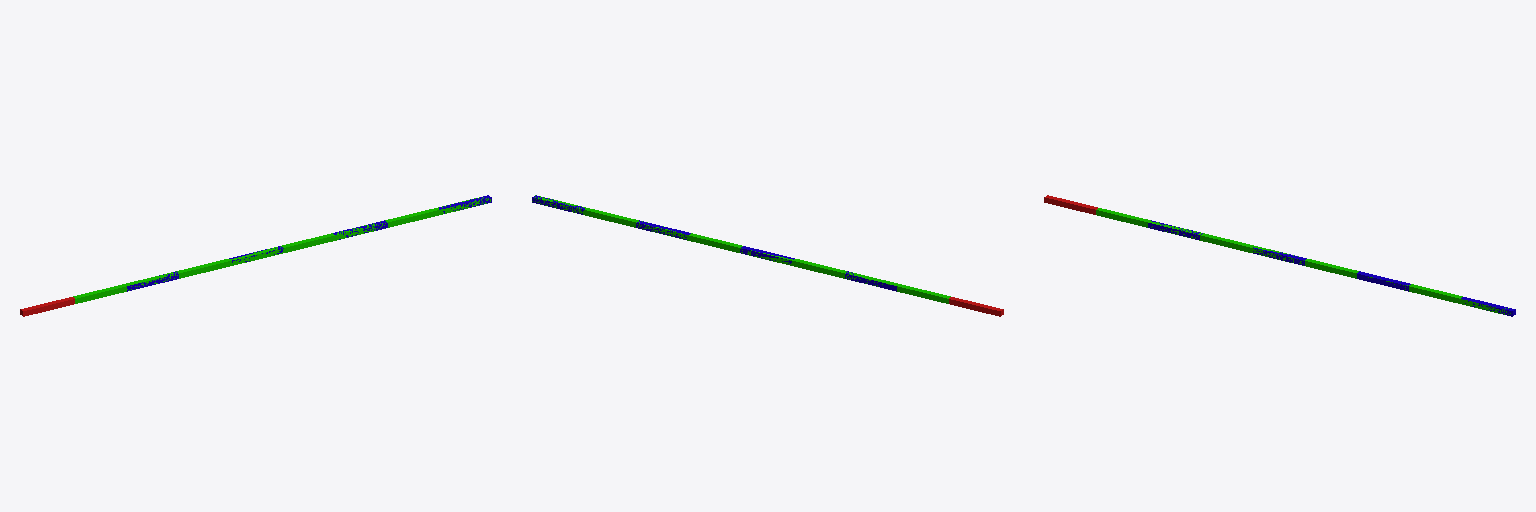
URDF robot description (variable_four_bar_branch):
<?xml version="1.0" ?>
<!-- =================================================================================== -->
<!-- |    This document was autogenerated by xacro from four_bar_branch.xacro          | -->
<!-- |    EDITING THIS FILE BY HAND IS NOT RECOMMENDED                                 | -->
<!-- =================================================================================== -->
<robot name="variable_four_bar_branch">
  <link name="base"/>
  <link name="link_4">
    <inertial>
      <mass value="3.3"/>
      <origin xyz="0.0 0.0 0.0"/>
      <inertia ixx="0.011253" ixy="0" ixz="0" iyy="0.036203" iyz="0" izz="0.042673"/>
    </inertial>
    <visual>
      <origin rpy="0 0 0" xyz="0.25 0 0"/>
      <geometry>
        <box size="0.5 0.05 0.05"/>
      </geometry>
      <material name="Blue">
        <color rgba="0.1 0 0.8 1.0"/>
      </material>
    </visual>
  </link>
  <link name="link_5">
    <inertial>
      <mass value="3.3"/>
      <origin xyz="0.0 0.0 0.0"/>
      <inertia ixx="0.011253" ixy="0" ixz="0" iyy="0.036203" iyz="0" izz="0.042673"/>
    </inertial>
    <visual>
      <origin rpy="0 0 0" xyz="0.25 0 0"/>
      <geometry>
        <box size="0.5 0.05 0.05"/>
      </geometry>
      <material name="Red">
        <color rgba="0.8 0.1 0.1 1.0"/>
      </material>
    </visual>
  </link>
  <link name="link_6">
    <inertial>
      <mass value="3.3"/>
      <origin xyz="0.0 0.0 0.0"/>
      <inertia ixx="0.011253" ixy="0" ixz="0" iyy="0.036203" iyz="0" izz="0.042673"/>
    </inertial>
    <visual>
      <origin rpy="0 0 0" xyz="0.5 0 0"/>
      <geometry>
        <box size="1.0 0.05 0.05"/>
      </geometry>
      <material name="Green2">
        <color rgba="0.1 0.8 0 1.0"/>
      </material>
    </visual>
  </link>
  <joint independent="false" name="base_to_link_4" type="revolute">
    <parent link="base"/>
    <child link="link_4"/>
    <origin xyz="1.0 0.0 0.0"/>
    <axis xyz="0 0 1"/>
    <limit effort="30" lower="-10" upper="10" velocity="1.0"/>
  </joint>
  <joint independent="true" name="base_to_link_5" type="revolute">
    <parent link="base"/>
    <child link="link_5"/>
    <origin xyz="0.0 0.0 0.0"/>
    <axis xyz="0 0 1"/>
    <limit effort="30" lower="-10" upper="10" velocity="1.0"/>
  </joint>
  <joint independent="false" name="link_5_to_link_6" type="revolute">
    <parent link="link_5"/>
    <child link="link_6"/>
    <origin xyz="0.5 0.0 0.0"/>
    <axis xyz="0 0 1"/>
    <limit effort="30" lower="-10" upper="10" velocity="1.0"/>
  </joint>
  <constraint name="constraint_4" type="position">
    <predecessor link="link_4">
      <origin xyz="0.5 0.0 0.0"/>
    </predecessor>
    <successor link="link_6">
      <origin xyz="1.0 0.0 0.0"/>
    </successor>
  </constraint>
  <link name="link_1">
    <inertial>
      <mass value="3.3"/>
      <origin xyz="0.0 0.0 0.0"/>
      <inertia ixx="0.011253" ixy="0" ixz="0" iyy="0.036203" iyz="0" izz="0.042673"/>
    </inertial>
    <visual>
      <origin rpy="0 0 0" xyz="0.25 0 0"/>
      <geometry>
        <box size="0.5 0.05 0.05"/>
      </geometry>
      <material name="Blue">
        <color rgba="0.1 0 0.8 1.0"/>
      </material>
    </visual>
  </link>
  <link name="link_2">
    <inertial>
      <mass value="3.3"/>
      <origin xyz="0.0 0.0 0.0"/>
      <inertia ixx="0.011253" ixy="0" ixz="0" iyy="0.036203" iyz="0" izz="0.042673"/>
    </inertial>
    <visual>
      <origin rpy="0 0 0" xyz="0.25 0 0"/>
      <geometry>
        <box size="0.5 0.05 0.05"/>
      </geometry>
      <material name="Red">
        <color rgba="0.8 0.1 0.1 1.0"/>
      </material>
    </visual>
  </link>
  <link name="link_3">
    <inertial>
      <mass value="3.3"/>
      <origin xyz="0.0 0.0 0.0"/>
      <inertia ixx="0.011253" ixy="0" ixz="0" iyy="0.036203" iyz="0" izz="0.042673"/>
    </inertial>
    <visual>
      <origin rpy="0 0 0" xyz="0.5 0 0"/>
      <geometry>
        <box size="1.0 0.05 0.05"/>
      </geometry>
      <material name="Green2">
        <color rgba="0.1 0.8 0 1.0"/>
      </material>
    </visual>
  </link>
  <joint independent="false" name="base_to_link_1" type="revolute">
    <parent link="base"/>
    <child link="link_1"/>
    <origin xyz="1.0 0.0 0.0"/>
    <axis xyz="0 0 1"/>
    <limit effort="30" lower="-10" upper="10" velocity="1.0"/>
  </joint>
  <joint independent="true" name="base_to_link_2" type="revolute">
    <parent link="base"/>
    <child link="link_2"/>
    <origin xyz="0.0 0.0 0.0"/>
    <axis xyz="0 0 1"/>
    <limit effort="30" lower="-10" upper="10" velocity="1.0"/>
  </joint>
  <joint independent="false" name="link_2_to_link_3" type="revolute">
    <parent link="link_2"/>
    <child link="link_3"/>
    <origin xyz="0.5 0.0 0.0"/>
    <axis xyz="0 0 1"/>
    <limit effort="30" lower="-10" upper="10" velocity="1.0"/>
  </joint>
  <constraint name="constraint_1" type="position">
    <predecessor link="link_1">
      <origin xyz="0.5 0.0 0.0"/>
    </predecessor>
    <successor link="link_3">
      <origin xyz="1.0 0.0 0.0"/>
    </successor>
  </constraint>
  <link name="link_16">
    <inertial>
      <mass value="3.3"/>
      <origin xyz="0.0 0.0 0.0"/>
      <inertia ixx="0.011253" ixy="0" ixz="0" iyy="0.036203" iyz="0" izz="0.042673"/>
    </inertial>
    <visual>
      <origin rpy="0 0 0" xyz="0.25 0 0"/>
      <geometry>
        <box size="0.5 0.05 0.05"/>
      </geometry>
      <material name="Blue">
        <color rgba="0.1 0 0.8 1.0"/>
      </material>
    </visual>
  </link>
  <link name="link_17">
    <inertial>
      <mass value="3.3"/>
      <origin xyz="0.0 0.0 0.0"/>
      <inertia ixx="0.011253" ixy="0" ixz="0" iyy="0.036203" iyz="0" izz="0.042673"/>
    </inertial>
    <visual>
      <origin rpy="0 0 0" xyz="0.25 0 0"/>
      <geometry>
        <box size="0.5 0.05 0.05"/>
      </geometry>
      <material name="Red">
        <color rgba="0.8 0.1 0.1 1.0"/>
      </material>
    </visual>
  </link>
  <link name="link_18">
    <inertial>
      <mass value="3.3"/>
      <origin xyz="0.0 0.0 0.0"/>
      <inertia ixx="0.011253" ixy="0" ixz="0" iyy="0.036203" iyz="0" izz="0.042673"/>
    </inertial>
    <visual>
      <origin rpy="0 0 0" xyz="0.5 0 0"/>
      <geometry>
        <box size="1.0 0.05 0.05"/>
      </geometry>
      <material name="Green2">
        <color rgba="0.1 0.8 0 1.0"/>
      </material>
    </visual>
  </link>
  <joint independent="false" name="link_4_to_link_16" type="revolute">
    <parent link="link_4"/>
    <child link="link_16"/>
    <origin xyz="1.0 0.0 0.0"/>
    <axis xyz="0 0 1"/>
    <limit effort="30" lower="-10" upper="10" velocity="1.0"/>
  </joint>
  <joint independent="true" name="link_4_to_link_17" type="revolute">
    <parent link="link_4"/>
    <child link="link_17"/>
    <origin xyz="0.0 0.0 0.0"/>
    <axis xyz="0 0 1"/>
    <limit effort="30" lower="-10" upper="10" velocity="1.0"/>
  </joint>
  <joint independent="false" name="link_17_to_link_18" type="revolute">
    <parent link="link_17"/>
    <child link="link_18"/>
    <origin xyz="0.5 0.0 0.0"/>
    <axis xyz="0 0 1"/>
    <limit effort="30" lower="-10" upper="10" velocity="1.0"/>
  </joint>
  <constraint name="constraint_16" type="position">
    <predecessor link="link_16">
      <origin xyz="0.5 0.0 0.0"/>
    </predecessor>
    <successor link="link_18">
      <origin xyz="1.0 0.0 0.0"/>
    </successor>
  </constraint>
  <link name="link_19">
    <inertial>
      <mass value="3.3"/>
      <origin xyz="0.0 0.0 0.0"/>
      <inertia ixx="0.011253" ixy="0" ixz="0" iyy="0.036203" iyz="0" izz="0.042673"/>
    </inertial>
    <visual>
      <origin rpy="0 0 0" xyz="0.25 0 0"/>
      <geometry>
        <box size="0.5 0.05 0.05"/>
      </geometry>
      <material name="Blue">
        <color rgba="0.1 0 0.8 1.0"/>
      </material>
    </visual>
  </link>
  <link name="link_20">
    <inertial>
      <mass value="3.3"/>
      <origin xyz="0.0 0.0 0.0"/>
      <inertia ixx="0.011253" ixy="0" ixz="0" iyy="0.036203" iyz="0" izz="0.042673"/>
    </inertial>
    <visual>
      <origin rpy="0 0 0" xyz="0.25 0 0"/>
      <geometry>
        <box size="0.5 0.05 0.05"/>
      </geometry>
      <material name="Red">
        <color rgba="0.8 0.1 0.1 1.0"/>
      </material>
    </visual>
  </link>
  <link name="link_21">
    <inertial>
      <mass value="3.3"/>
      <origin xyz="0.0 0.0 0.0"/>
      <inertia ixx="0.011253" ixy="0" ixz="0" iyy="0.036203" iyz="0" izz="0.042673"/>
    </inertial>
    <visual>
      <origin rpy="0 0 0" xyz="0.5 0 0"/>
      <geometry>
        <box size="1.0 0.05 0.05"/>
      </geometry>
      <material name="Green2">
        <color rgba="0.1 0.8 0 1.0"/>
      </material>
    </visual>
  </link>
  <joint independent="false" name="link_16_to_link_19" type="revolute">
    <parent link="link_16"/>
    <child link="link_19"/>
    <origin xyz="1.0 0.0 0.0"/>
    <axis xyz="0 0 1"/>
    <limit effort="30" lower="-10" upper="10" velocity="1.0"/>
  </joint>
  <joint independent="true" name="link_16_to_link_20" type="revolute">
    <parent link="link_16"/>
    <child link="link_20"/>
    <origin xyz="0.0 0.0 0.0"/>
    <axis xyz="0 0 1"/>
    <limit effort="30" lower="-10" upper="10" velocity="1.0"/>
  </joint>
  <joint independent="false" name="link_20_to_link_21" type="revolute">
    <parent link="link_20"/>
    <child link="link_21"/>
    <origin xyz="0.5 0.0 0.0"/>
    <axis xyz="0 0 1"/>
    <limit effort="30" lower="-10" upper="10" velocity="1.0"/>
  </joint>
  <constraint name="constraint_19" type="position">
    <predecessor link="link_19">
      <origin xyz="0.5 0.0 0.0"/>
    </predecessor>
    <successor link="link_21">
      <origin xyz="1.0 0.0 0.0"/>
    </successor>
  </constraint>
  <link name="link_22">
    <inertial>
      <mass value="3.3"/>
      <origin xyz="0.0 0.0 0.0"/>
      <inertia ixx="0.011253" ixy="0" ixz="0" iyy="0.036203" iyz="0" izz="0.042673"/>
    </inertial>
    <visual>
      <origin rpy="0 0 0" xyz="0.25 0 0"/>
      <geometry>
        <box size="0.5 0.05 0.05"/>
      </geometry>
      <material name="Blue">
        <color rgba="0.1 0 0.8 1.0"/>
      </material>
    </visual>
  </link>
  <link name="link_23">
    <inertial>
      <mass value="3.3"/>
      <origin xyz="0.0 0.0 0.0"/>
      <inertia ixx="0.011253" ixy="0" ixz="0" iyy="0.036203" iyz="0" izz="0.042673"/>
    </inertial>
    <visual>
      <origin rpy="0 0 0" xyz="0.25 0 0"/>
      <geometry>
        <box size="0.5 0.05 0.05"/>
      </geometry>
      <material name="Red">
        <color rgba="0.8 0.1 0.1 1.0"/>
      </material>
    </visual>
  </link>
  <link name="link_24">
    <inertial>
      <mass value="3.3"/>
      <origin xyz="0.0 0.0 0.0"/>
      <inertia ixx="0.011253" ixy="0" ixz="0" iyy="0.036203" iyz="0" izz="0.042673"/>
    </inertial>
    <visual>
      <origin rpy="0 0 0" xyz="0.5 0 0"/>
      <geometry>
        <box size="1.0 0.05 0.05"/>
      </geometry>
      <material name="Green2">
        <color rgba="0.1 0.8 0 1.0"/>
      </material>
    </visual>
  </link>
  <joint independent="false" name="link_19_to_link_22" type="revolute">
    <parent link="link_19"/>
    <child link="link_22"/>
    <origin xyz="1.0 0.0 0.0"/>
    <axis xyz="0 0 1"/>
    <limit effort="30" lower="-10" upper="10" velocity="1.0"/>
  </joint>
  <joint independent="true" name="link_19_to_link_23" type="revolute">
    <parent link="link_19"/>
    <child link="link_23"/>
    <origin xyz="0.0 0.0 0.0"/>
    <axis xyz="0 0 1"/>
    <limit effort="30" lower="-10" upper="10" velocity="1.0"/>
  </joint>
  <joint independent="false" name="link_23_to_link_24" type="revolute">
    <parent link="link_23"/>
    <child link="link_24"/>
    <origin xyz="0.5 0.0 0.0"/>
    <axis xyz="0 0 1"/>
    <limit effort="30" lower="-10" upper="10" velocity="1.0"/>
  </joint>
  <constraint name="constraint_22" type="position">
    <predecessor link="link_22">
      <origin xyz="0.5 0.0 0.0"/>
    </predecessor>
    <successor link="link_24">
      <origin xyz="1.0 0.0 0.0"/>
    </successor>
  </constraint>
  <link name="link_7">
    <inertial>
      <mass value="3.3"/>
      <origin xyz="0.0 0.0 0.0"/>
      <inertia ixx="0.011253" ixy="0" ixz="0" iyy="0.036203" iyz="0" izz="0.042673"/>
    </inertial>
    <visual>
      <origin rpy="0 0 0" xyz="0.25 0 0"/>
      <geometry>
        <box size="0.5 0.05 0.05"/>
      </geometry>
      <material name="Blue">
        <color rgba="0.1 0 0.8 1.0"/>
      </material>
    </visual>
  </link>
  <link name="link_8">
    <inertial>
      <mass value="3.3"/>
      <origin xyz="0.0 0.0 0.0"/>
      <inertia ixx="0.011253" ixy="0" ixz="0" iyy="0.036203" iyz="0" izz="0.042673"/>
    </inertial>
    <visual>
      <origin rpy="0 0 0" xyz="0.25 0 0"/>
      <geometry>
        <box size="0.5 0.05 0.05"/>
      </geometry>
      <material name="Red">
        <color rgba="0.8 0.1 0.1 1.0"/>
      </material>
    </visual>
  </link>
  <link name="link_9">
    <inertial>
      <mass value="3.3"/>
      <origin xyz="0.0 0.0 0.0"/>
      <inertia ixx="0.011253" ixy="0" ixz="0" iyy="0.036203" iyz="0" izz="0.042673"/>
    </inertial>
    <visual>
      <origin rpy="0 0 0" xyz="0.5 0 0"/>
      <geometry>
        <box size="1.0 0.05 0.05"/>
      </geometry>
      <material name="Green2">
        <color rgba="0.1 0.8 0 1.0"/>
      </material>
    </visual>
  </link>
  <joint independent="false" name="link_1_to_link_7" type="revolute">
    <parent link="link_1"/>
    <child link="link_7"/>
    <origin xyz="1.0 0.0 0.0"/>
    <axis xyz="0 0 1"/>
    <limit effort="30" lower="-10" upper="10" velocity="1.0"/>
  </joint>
  <joint independent="true" name="link_1_to_link_8" type="revolute">
    <parent link="link_1"/>
    <child link="link_8"/>
    <origin xyz="0.0 0.0 0.0"/>
    <axis xyz="0 0 1"/>
    <limit effort="30" lower="-10" upper="10" velocity="1.0"/>
  </joint>
  <joint independent="false" name="link_8_to_link_9" type="revolute">
    <parent link="link_8"/>
    <child link="link_9"/>
    <origin xyz="0.5 0.0 0.0"/>
    <axis xyz="0 0 1"/>
    <limit effort="30" lower="-10" upper="10" velocity="1.0"/>
  </joint>
  <constraint name="constraint_7" type="position">
    <predecessor link="link_7">
      <origin xyz="0.5 0.0 0.0"/>
    </predecessor>
    <successor link="link_9">
      <origin xyz="1.0 0.0 0.0"/>
    </successor>
  </constraint>
  <link name="link_10">
    <inertial>
      <mass value="3.3"/>
      <origin xyz="0.0 0.0 0.0"/>
      <inertia ixx="0.011253" ixy="0" ixz="0" iyy="0.036203" iyz="0" izz="0.042673"/>
    </inertial>
    <visual>
      <origin rpy="0 0 0" xyz="0.25 0 0"/>
      <geometry>
        <box size="0.5 0.05 0.05"/>
      </geometry>
      <material name="Blue">
        <color rgba="0.1 0 0.8 1.0"/>
      </material>
    </visual>
  </link>
  <link name="link_11">
    <inertial>
      <mass value="3.3"/>
      <origin xyz="0.0 0.0 0.0"/>
      <inertia ixx="0.011253" ixy="0" ixz="0" iyy="0.036203" iyz="0" izz="0.042673"/>
    </inertial>
    <visual>
      <origin rpy="0 0 0" xyz="0.25 0 0"/>
      <geometry>
        <box size="0.5 0.05 0.05"/>
      </geometry>
      <material name="Red">
        <color rgba="0.8 0.1 0.1 1.0"/>
      </material>
    </visual>
  </link>
  <link name="link_12">
    <inertial>
      <mass value="3.3"/>
      <origin xyz="0.0 0.0 0.0"/>
      <inertia ixx="0.011253" ixy="0" ixz="0" iyy="0.036203" iyz="0" izz="0.042673"/>
    </inertial>
    <visual>
      <origin rpy="0 0 0" xyz="0.5 0 0"/>
      <geometry>
        <box size="1.0 0.05 0.05"/>
      </geometry>
      <material name="Green2">
        <color rgba="0.1 0.8 0 1.0"/>
      </material>
    </visual>
  </link>
  <joint independent="false" name="link_7_to_link_10" type="revolute">
    <parent link="link_7"/>
    <child link="link_10"/>
    <origin xyz="1.0 0.0 0.0"/>
    <axis xyz="0 0 1"/>
    <limit effort="30" lower="-10" upper="10" velocity="1.0"/>
  </joint>
  <joint independent="true" name="link_7_to_link_11" type="revolute">
    <parent link="link_7"/>
    <child link="link_11"/>
    <origin xyz="0.0 0.0 0.0"/>
    <axis xyz="0 0 1"/>
    <limit effort="30" lower="-10" upper="10" velocity="1.0"/>
  </joint>
  <joint independent="false" name="link_11_to_link_12" type="revolute">
    <parent link="link_11"/>
    <child link="link_12"/>
    <origin xyz="0.5 0.0 0.0"/>
    <axis xyz="0 0 1"/>
    <limit effort="30" lower="-10" upper="10" velocity="1.0"/>
  </joint>
  <constraint name="constraint_10" type="position">
    <predecessor link="link_10">
      <origin xyz="0.5 0.0 0.0"/>
    </predecessor>
    <successor link="link_12">
      <origin xyz="1.0 0.0 0.0"/>
    </successor>
  </constraint>
  <link name="link_13">
    <inertial>
      <mass value="3.3"/>
      <origin xyz="0.0 0.0 0.0"/>
      <inertia ixx="0.011253" ixy="0" ixz="0" iyy="0.036203" iyz="0" izz="0.042673"/>
    </inertial>
    <visual>
      <origin rpy="0 0 0" xyz="0.25 0 0"/>
      <geometry>
        <box size="0.5 0.05 0.05"/>
      </geometry>
      <material name="Blue">
        <color rgba="0.1 0 0.8 1.0"/>
      </material>
    </visual>
  </link>
  <link name="link_14">
    <inertial>
      <mass value="3.3"/>
      <origin xyz="0.0 0.0 0.0"/>
      <inertia ixx="0.011253" ixy="0" ixz="0" iyy="0.036203" iyz="0" izz="0.042673"/>
    </inertial>
    <visual>
      <origin rpy="0 0 0" xyz="0.25 0 0"/>
      <geometry>
        <box size="0.5 0.05 0.05"/>
      </geometry>
      <material name="Red">
        <color rgba="0.8 0.1 0.1 1.0"/>
      </material>
    </visual>
  </link>
  <link name="link_15">
    <inertial>
      <mass value="3.3"/>
      <origin xyz="0.0 0.0 0.0"/>
      <inertia ixx="0.011253" ixy="0" ixz="0" iyy="0.036203" iyz="0" izz="0.042673"/>
    </inertial>
    <visual>
      <origin rpy="0 0 0" xyz="0.5 0 0"/>
      <geometry>
        <box size="1.0 0.05 0.05"/>
      </geometry>
      <material name="Green2">
        <color rgba="0.1 0.8 0 1.0"/>
      </material>
    </visual>
  </link>
  <joint independent="false" name="link_10_to_link_13" type="revolute">
    <parent link="link_10"/>
    <child link="link_13"/>
    <origin xyz="1.0 0.0 0.0"/>
    <axis xyz="0 0 1"/>
    <limit effort="30" lower="-10" upper="10" velocity="1.0"/>
  </joint>
  <joint independent="true" name="link_10_to_link_14" type="revolute">
    <parent link="link_10"/>
    <child link="link_14"/>
    <origin xyz="0.0 0.0 0.0"/>
    <axis xyz="0 0 1"/>
    <limit effort="30" lower="-10" upper="10" velocity="1.0"/>
  </joint>
  <joint independent="false" name="link_14_to_link_15" type="revolute">
    <parent link="link_14"/>
    <child link="link_15"/>
    <origin xyz="0.5 0.0 0.0"/>
    <axis xyz="0 0 1"/>
    <limit effort="30" lower="-10" upper="10" velocity="1.0"/>
  </joint>
  <constraint name="constraint_13" type="position">
    <predecessor link="link_13">
      <origin xyz="0.5 0.0 0.0"/>
    </predecessor>
    <successor link="link_15">
      <origin xyz="1.0 0.0 0.0"/>
    </successor>
  </constraint>
</robot>

--- Render facts (derived) ---
The picture shows the robot from 3 angles, left to right: view 1: azimuth 30°, elevation 25°; view 2: azimuth 150°, elevation 25°; view 3: azimuth 330°, elevation 25°; orthographic projection.
Model variable_four_bar_branch with 25 links and 24 joints (24 revolute), rooted at base, posed all joints at 0.
Visible links, largest first — view 1: link_18, link_21, link_24, link_6; view 2: link_24, link_6, link_18, link_21; view 3: link_24, link_18, link_6.
Link boxes in pixels (x1,y1,x2,y2): link_18: (177, 247, 283, 278); link_21: (281, 221, 385, 252); link_24: (385, 197, 490, 227); link_6: (73, 271, 178, 303); link_24: (532, 195, 638, 227); link_6: (845, 272, 950, 303); link_18: (740, 248, 846, 278); link_21: (637, 221, 742, 252); link_24: (1409, 284, 1510, 314); link_18: (1200, 233, 1303, 265); link_6: (1096, 208, 1201, 240).
Bounding box of the posed robot: 4.5 × 0.05 × 0.05 m (x, y, z).
Geometry: primitives only (box / cylinder / sphere), no mesh files.
